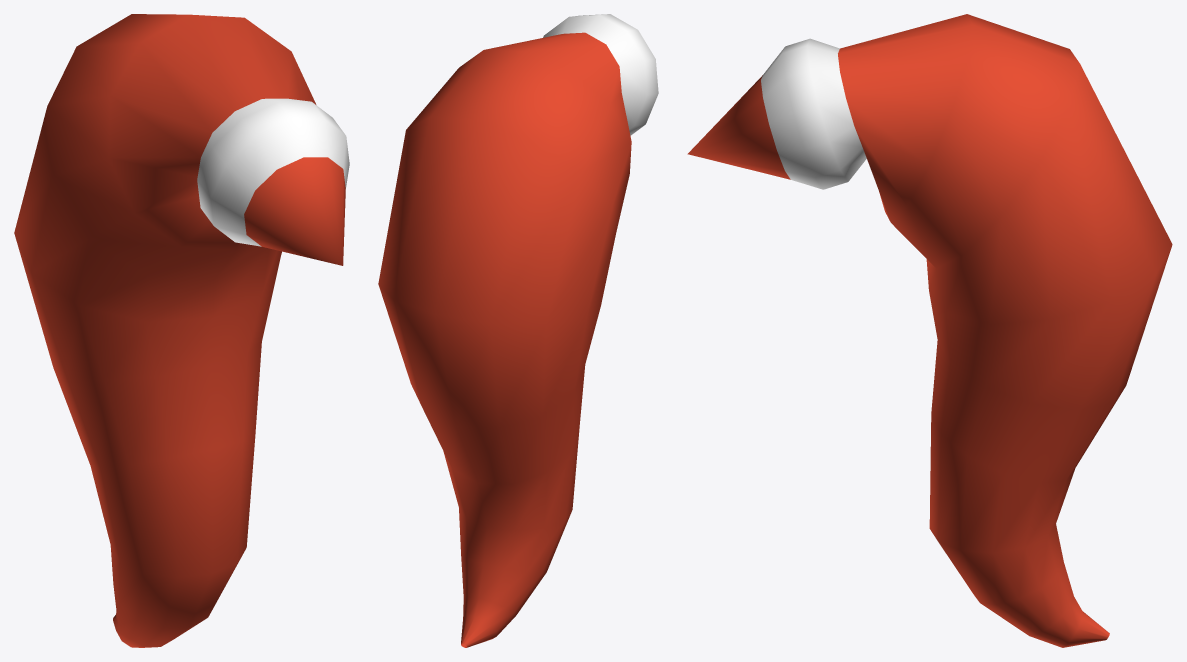
Rendered from hairTail.glb.
3 views of the same model, side by side, from view 1: azimuth 30°, elevation 25°; view 2: azimuth 150°, elevation 25°; view 3: azimuth 270°, elevation 25° (orthographic). The views are drawn at different scales.
Visible parts, largest first — view 1: hairTail; view 2: hairTail; view 3: hairTail.
Boxes of the visible parts, x1,y1,x2,y2 form: hairTail: (14,14,349,647); hairTail: (378,14,658,647); hairTail: (687,14,1172,647).
Bounding box in the file's own units: 0.5861 × 1.54 × 1.09.
